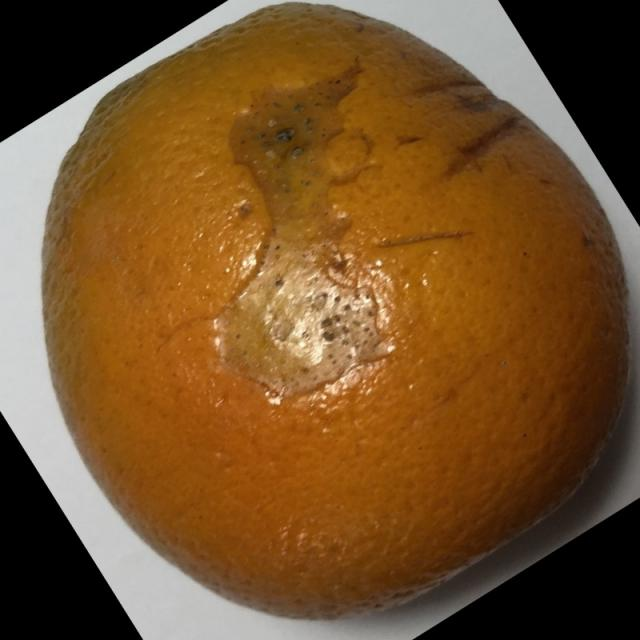canker: (26, 10, 640, 633)
